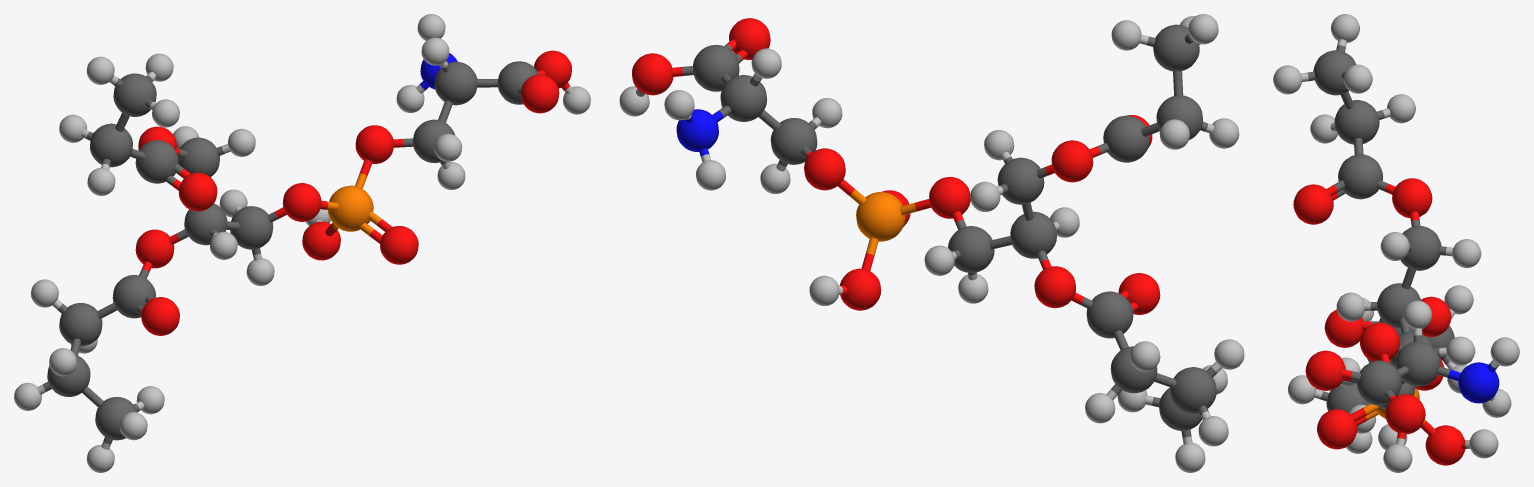
3 renders of one model, left to right at view 1: azimuth 30°, elevation 25°; view 2: azimuth 150°, elevation 25°; view 3: azimuth 270°, elevation 25°, orthographic. The views are drawn at different scales.
Parts seen in each view (by area): view 1: Mesh (×43); view 2: Mesh (×44); view 3: Mesh (×39).
Part boxes in pixels (<box>): Mesh (×43): <box>14,14,590,472</box>; Mesh (×44): <box>619,14,1244,472</box>; Mesh (×39): <box>1273,14,1519,472</box>.
Bounding box in the file's own units: 15.3 × 10.82 × 5.57.
